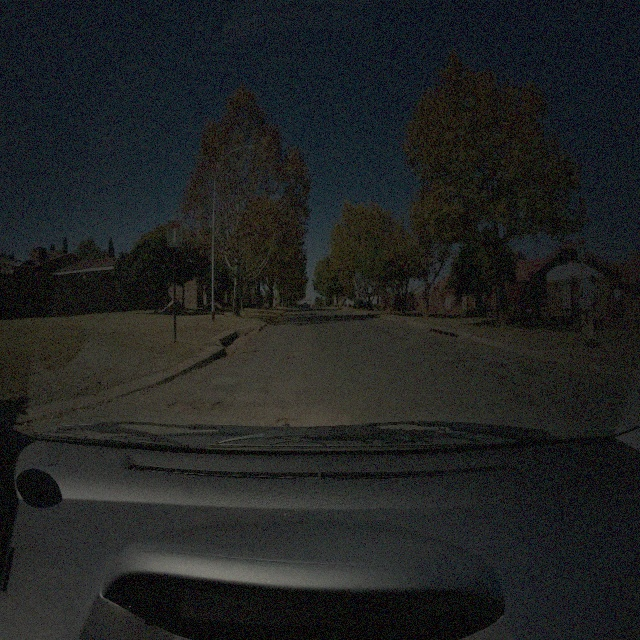pothole: (167, 397, 202, 413), (273, 413, 300, 426), (289, 345, 303, 355), (213, 398, 224, 410)
